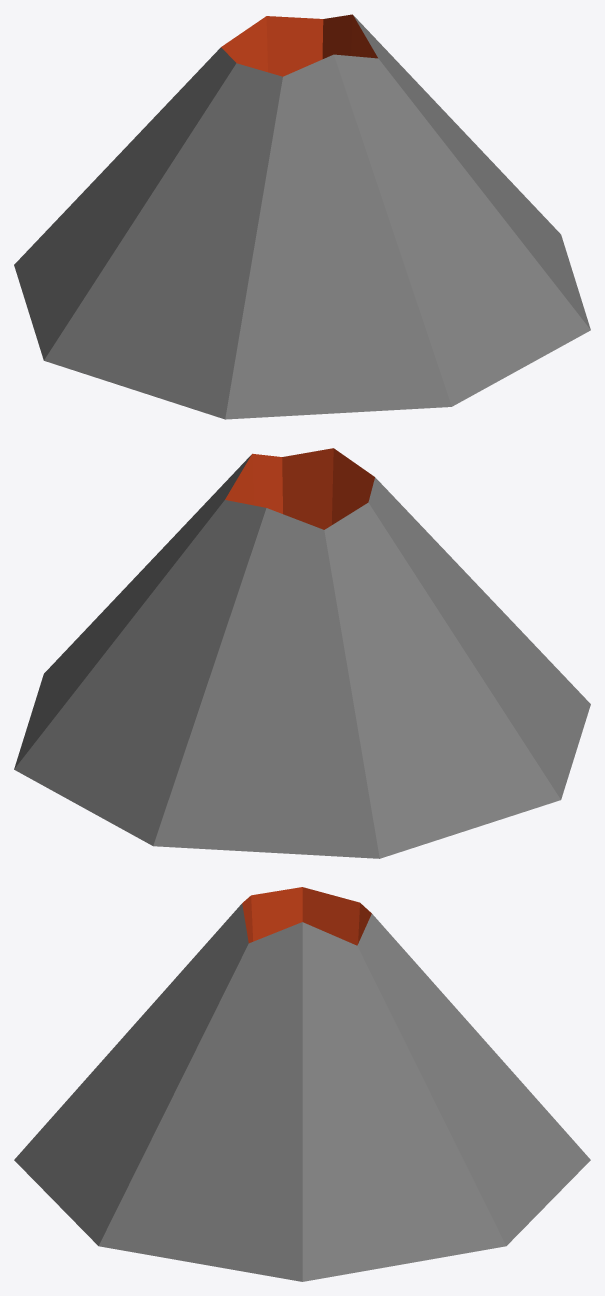
The model's file is Volcano.fbx.
The picture shows the model from 3 angles, top to bottom: view 1: azimuth 30°, elevation 25°; view 2: azimuth 150°, elevation 25°; view 3: azimuth 270°, elevation 25°; orthographic projection. The views are drawn at different scales.
Parts seen in each view (by area): view 1: Cone.001; view 2: Cone.001; view 3: Cone.001.
Boxes of the visible parts, x1,y1,x2,y2 form: Cone.001: (14,14,590,419); Cone.001: (14,448,590,858); Cone.001: (14,887,590,1281).
Bounding box in the file's own units: 322 × 161 × 322.
